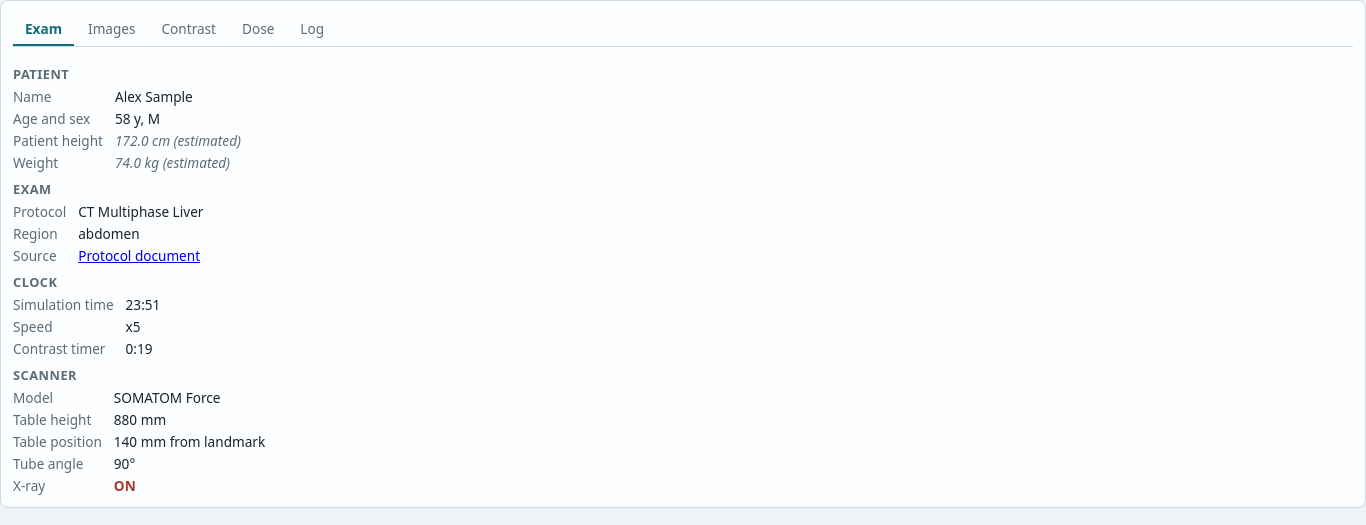
Test: ConsolePanel › the log lists newest first and marks voice lines
Click the tab "Log" at (312, 30), box [288,13,336,46]
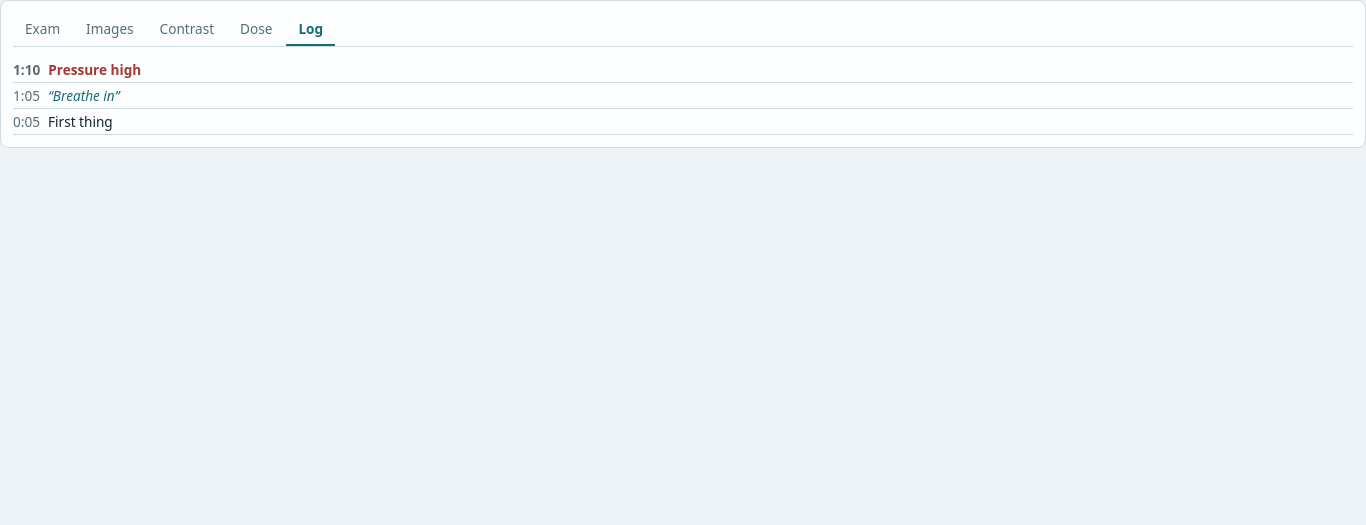
Check: the list item "1:10 Pressure high" is shown, box [13,57,1353,83]
Check: the list item "0:05 First thing" is shown, box [13,109,1353,135]
Check: the text "1:05" is shown, box [13,86,40,105]
